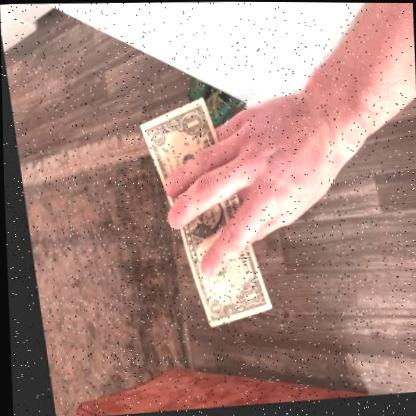dollar_front: (136, 97, 265, 329)
